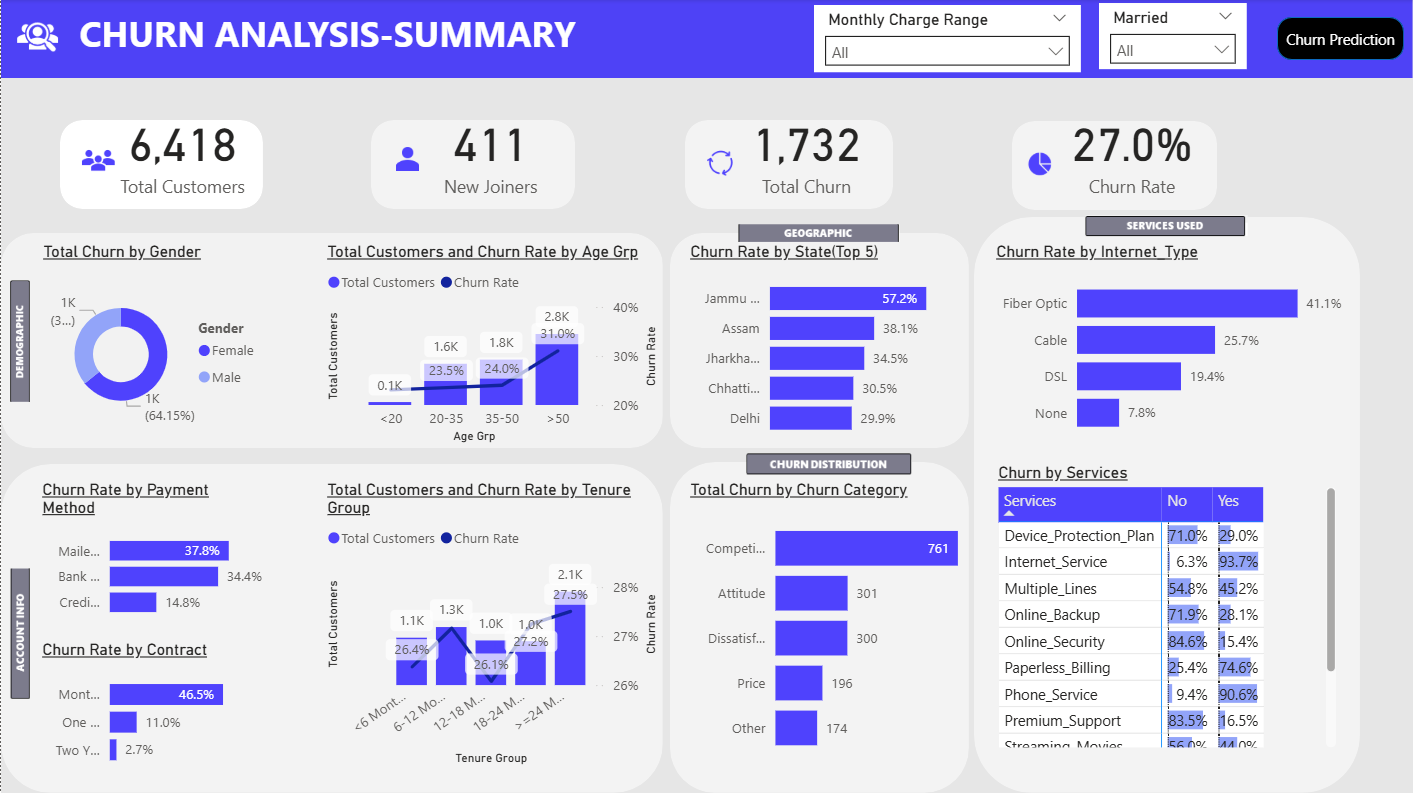

The dashboard page shown, as its layout file describes it:
{"tool":"powerbi","page":{"name":"Summary","canvas":[1280,720],"ordinal":0},"visuals":[{"type":"shape","box":[882.3,197.7,350,522.3],"z":0},{"type":"shape","box":[606.6,212.2,271.1,195],"z":1000},{"type":"shape","box":[606.6,419.8,271.1,300.2],"z":2000},{"type":"shape","box":[0,421.7,600.3,298.3],"z":3000},{"type":"shape","box":[0,212.2,600.3,195],"z":4000},{"type":"shape","box":[620.3,109.7,188.6,80.7],"z":5000},{"type":"shape","box":[916.8,110.6,185.9,80.7],"z":6000},{"type":"shape","box":[335.5,109.7,185,80.7],"z":7000},{"type":"shape","box":[53.5,109.7,184.1,80.7],"z":8000},{"type":"card","fields":{"Values":["tbl_Measures.Total Customers"]},"box":[94.3,85.2,140.6,105.2],"z":9000},{"type":"card","fields":{"Values":["tbl_Measures.Total Churn"]},"box":[652.9,85.2,155.1,105.2],"z":10000},{"type":"card","fields":{"Values":["tbl_Measures.New Joiners"]},"box":[375.4,85.2,136.9,105.2],"z":11000},{"type":"card","fields":{"Values":["tbl_Measures.Churn Rate"]},"box":[948.5,85.2,154.2,105.2],"z":12000},{"type":"donutChart","fields":{"Category":["db_customer prod_customer_data.Gender"],"Y":["tbl_Measures.Total Churn"]},"box":[33.6,221.3,211.3,185.9],"z":13000},{"type":"lineStackedColumnComboChart","fields":{"Category":["mapping_AgeGrp.Age Grp"],"Y":["tbl_Measures.Total Customers"],"Y2":["tbl_Measures.Churn Rate"]},"box":[291.1,221.3,309.2,185.9],"z":14000},{"type":"clusteredBarChart","title":"Churn Rate by Payment Method","fields":{"Category":["db_customer prod_customer_data.Payment_Method"],"Y":["tbl_Measures.Churn Rate"]},"box":[32.6,437.1,211.3,134.2],"z":15000},{"type":"clusteredBarChart","fields":{"Category":["db_customer prod_customer_data.Contract"],"Y":["tbl_Measures.Churn Rate"]},"box":[32.6,582.2,211.3,124.2],"z":16000},{"type":"lineStackedColumnComboChart","fields":{"Category":["mapping_TenureinMonths.Tenure Group"],"Y":["tbl_Measures.Total Customers"],"Y2":["tbl_Measures.Churn Rate"]},"box":[291.1,437.1,309.2,262.1],"z":17000},{"type":"clusteredBarChart","title":"Churn Rate by State(Top 5)","fields":{"Y":["tbl_Measures.Churn Rate"],"Category":["db_customer prod_customer_data.State"]},"box":[620.3,221.3,257.5,185.9],"z":18000},{"type":"clusteredBarChart","fields":{"Y":["tbl_Measures.Total Churn"],"Category":["db_customer prod_customer_data.Churn_Category"]},"box":[620.3,437.1,277.5,262.1],"z":19000},{"type":"clusteredBarChart","fields":{"Y":["tbl_Measures.Churn Rate"],"Category":["db_customer prod_customer_data.Internet_Type"]},"box":[897.7,221.3,330.1,185.9],"z":20000},{"type":"pivotTable","title":"Churn by Services","fields":{"Rows":["Prod_Services.Services"],"Columns":["Prod_Services.Status"],"Values":["Sum(Prod_Services.Churn Status)"]},"box":[899.5,421.7,315.6,262.1],"z":21000},{"type":"shape","box":[0,0,1280.4,71.6],"z":22000},{"type":"slicer","fields":{"Values":["Prod_Services.Married"]},"box":[995.6,3.7,133.9,60.4],"z":23000},{"type":"slicer","fields":{"Values":["Prod_Services.Monthly Charge Status"]},"box":[737.1,5.6,241.7,61.4],"z":24000},{"type":"textbox","box":[66.2,3.6,481.5,61.7],"z":25000},{"type":"image","box":[66.2,124.2,44.4,43.5],"z":26000},{"type":"image","box":[630.2,121.5,44.4,54.4],"z":27000},{"type":"image","box":[348.2,120.6,40.8,49.9],"z":28000},{"type":"image","box":[924,130.6,36.3,37.2],"z":29000},{"type":"image","box":[7.3,5.4,51.7,58.9],"z":30000},{"type":"image","box":[978.4,146,156.9,118.8],"z":31000},{"type":"image","box":[671,398.1,159.6,47.2],"z":32000},{"type":"image","box":[0,511.4,33.6,127.9],"z":33000},{"type":"image","box":[0,250.3,33.6,119.7],"z":34000},{"type":"image","box":[663.8,182.3,156,59.8],"z":35000},{"type":"shape","box":[1157.3,16.7,115.3,39],"z":36000}]}

Visuals, with their boxes in screenshot pixels (x1, y1, x2, y2), scaled from the page's 1280x720 canvas onto the 1413x793 screenshot:
shape: (left=974, top=218, right=1360, bottom=792)
shape: (left=670, top=234, right=969, bottom=448)
shape: (left=670, top=462, right=969, bottom=792)
shape: (left=0, top=464, right=663, bottom=792)
shape: (left=0, top=234, right=663, bottom=448)
shape: (left=685, top=121, right=893, bottom=210)
shape: (left=1012, top=122, right=1217, bottom=211)
shape: (left=370, top=121, right=575, bottom=210)
shape: (left=59, top=121, right=262, bottom=210)
card - tbl_Measures.Total Customers: (left=104, top=94, right=259, bottom=210)
card - tbl_Measures.Total Churn: (left=721, top=94, right=892, bottom=210)
card - tbl_Measures.New Joiners: (left=414, top=94, right=566, bottom=210)
card - tbl_Measures.Churn Rate: (left=1047, top=94, right=1217, bottom=210)
donutChart - db_customer prod_customer_data.Gender x tbl_Measures.Total Churn: (left=37, top=244, right=270, bottom=448)
lineStackedColumnComboChart - mapping_AgeGrp.Age Grp x tbl_Measures.Total Customers: (left=321, top=244, right=663, bottom=448)
"Churn Rate by Payment Method" clusteredBarChart: (left=36, top=481, right=269, bottom=629)
clusteredBarChart - db_customer prod_customer_data.Contract x tbl_Measures.Churn Rate: (left=36, top=641, right=269, bottom=778)
lineStackedColumnComboChart - mapping_TenureinMonths.Tenure Group x tbl_Measures.Total Customers: (left=321, top=481, right=663, bottom=770)
"Churn Rate by State(Top 5)" clusteredBarChart: (left=685, top=244, right=969, bottom=448)
clusteredBarChart - tbl_Measures.Total Churn x db_customer prod_customer_data.Churn_Category: (left=685, top=481, right=991, bottom=770)
clusteredBarChart - tbl_Measures.Churn Rate x db_customer prod_customer_data.Internet_Type: (left=991, top=244, right=1355, bottom=448)
"Churn by Services" pivotTable: (left=993, top=464, right=1341, bottom=753)
shape: (left=0, top=0, right=1412, bottom=79)
slicer - Prod_Services.Married: (left=1099, top=4, right=1247, bottom=71)
slicer - Prod_Services.Monthly Charge Status: (left=814, top=6, right=1081, bottom=74)
textbox: (left=73, top=4, right=605, bottom=72)
image: (left=73, top=137, right=122, bottom=185)
image: (left=696, top=134, right=745, bottom=194)
image: (left=384, top=133, right=429, bottom=188)
image: (left=1020, top=144, right=1060, bottom=185)
image: (left=8, top=6, right=65, bottom=71)
image: (left=1080, top=161, right=1253, bottom=292)
image: (left=741, top=438, right=917, bottom=490)
image: (left=0, top=563, right=37, bottom=704)
image: (left=0, top=276, right=37, bottom=408)
image: (left=733, top=201, right=905, bottom=267)
shape: (left=1278, top=18, right=1405, bottom=61)
